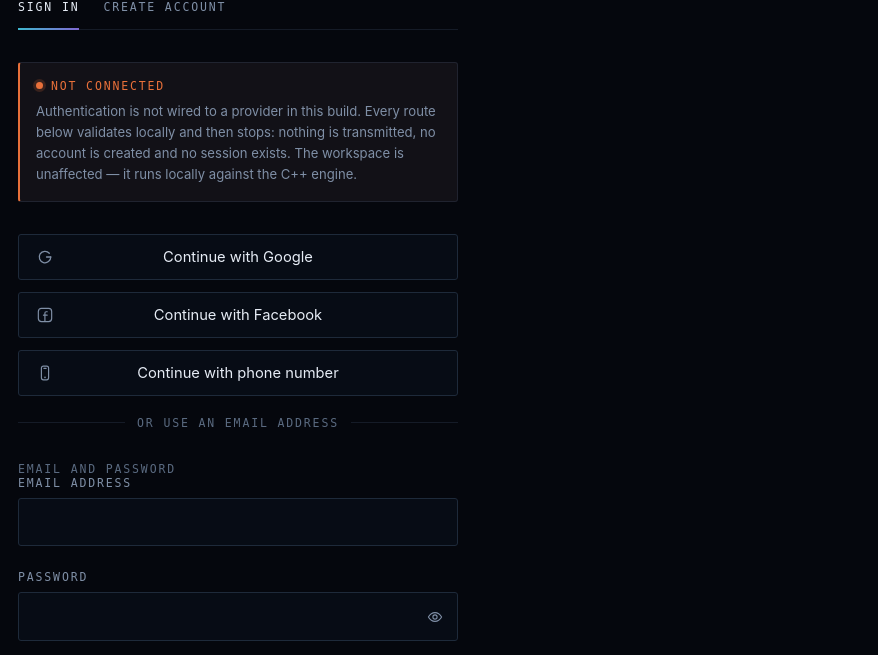
Scenario: AuthForm: a valid sign-in submit (house rule 5) › offers the workspace as the honest way forward, which needs no account
In the field labelled "Email address": (238, 522) [18, 498, 458, 546], type "jdoe@institution.edu"
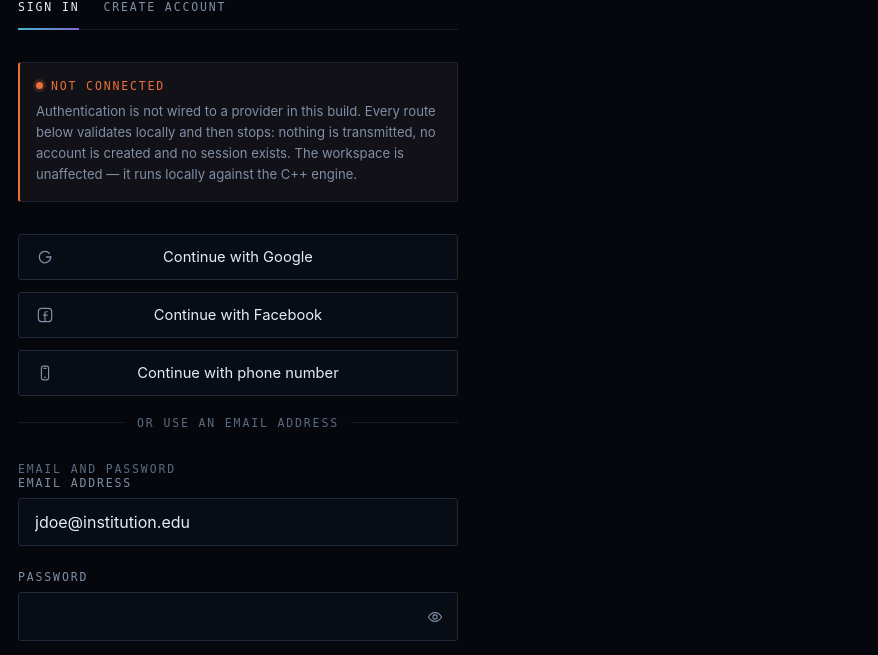
In the password field labelled "Password": (238, 616) [18, 592, 458, 641], type "correct horse battery"
(page scrolled)
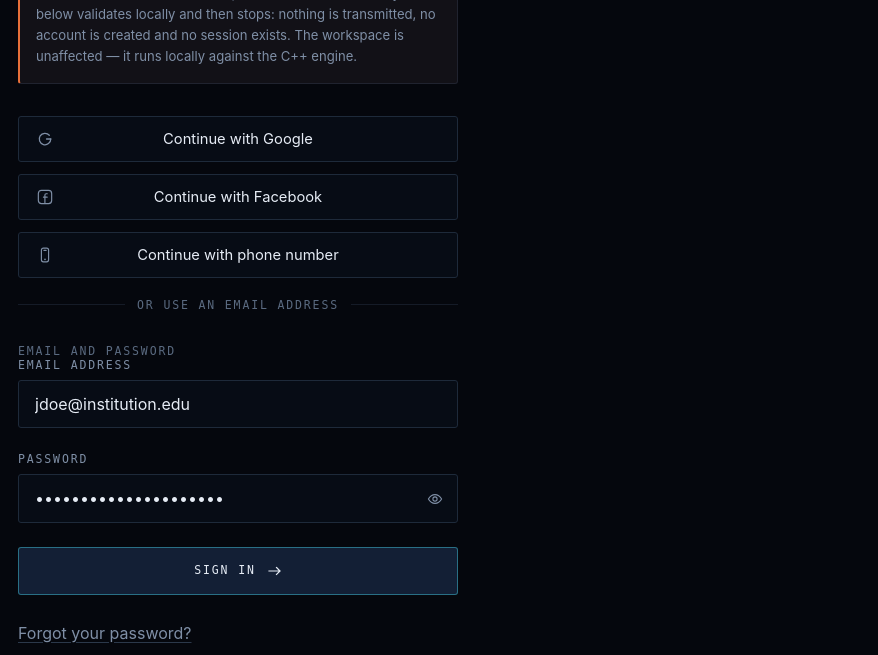
Click the button "Sign in": (238, 571) [18, 547, 458, 595]
(page scrolled)
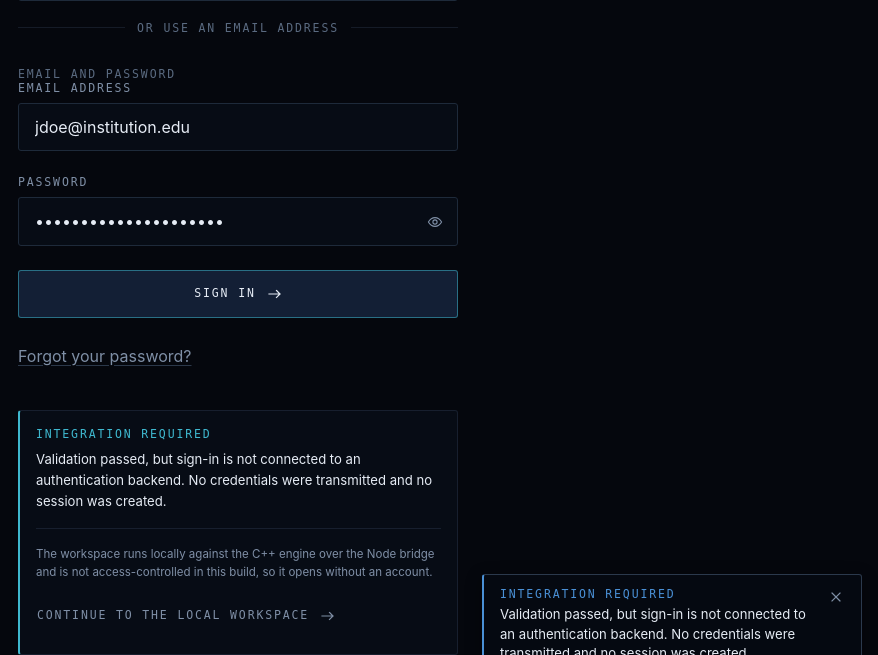
expect the button "Continue to the local workspace" is shown: met, box [36, 594, 336, 638]
